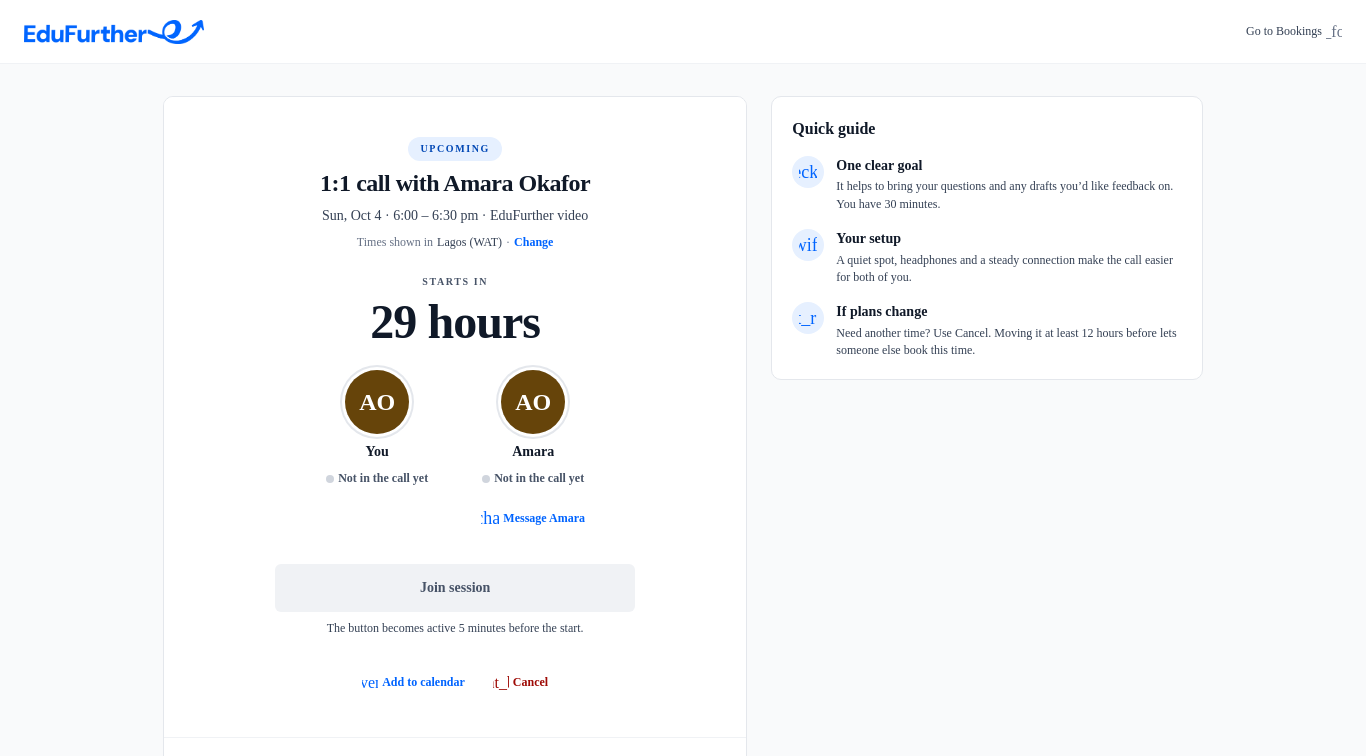
Test case: where the move ends › refused: stays in the dialog, in the move’s words, and nothing has changed
This screenshot has width=1366, height=756.
What coordinates should you click on to do the following:
click the button "event_busy Cancel"
I would click on:
 (520, 683)
Its box is [489, 661, 552, 705].
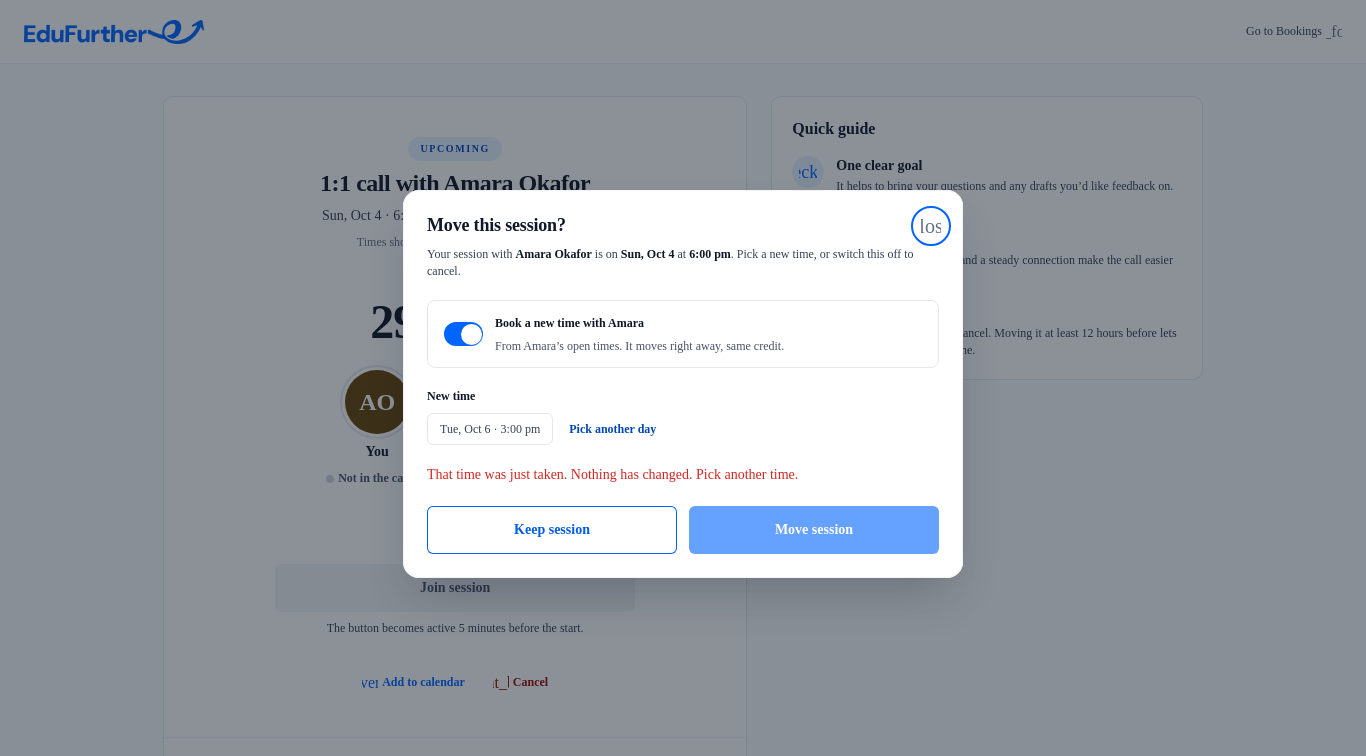
Expected: the text "Upcoming" is shown, [408, 137, 502, 161]
Now the message reads "That time was just taken. Nothing has changed. Pick another time.", box [427, 468, 798, 482]
